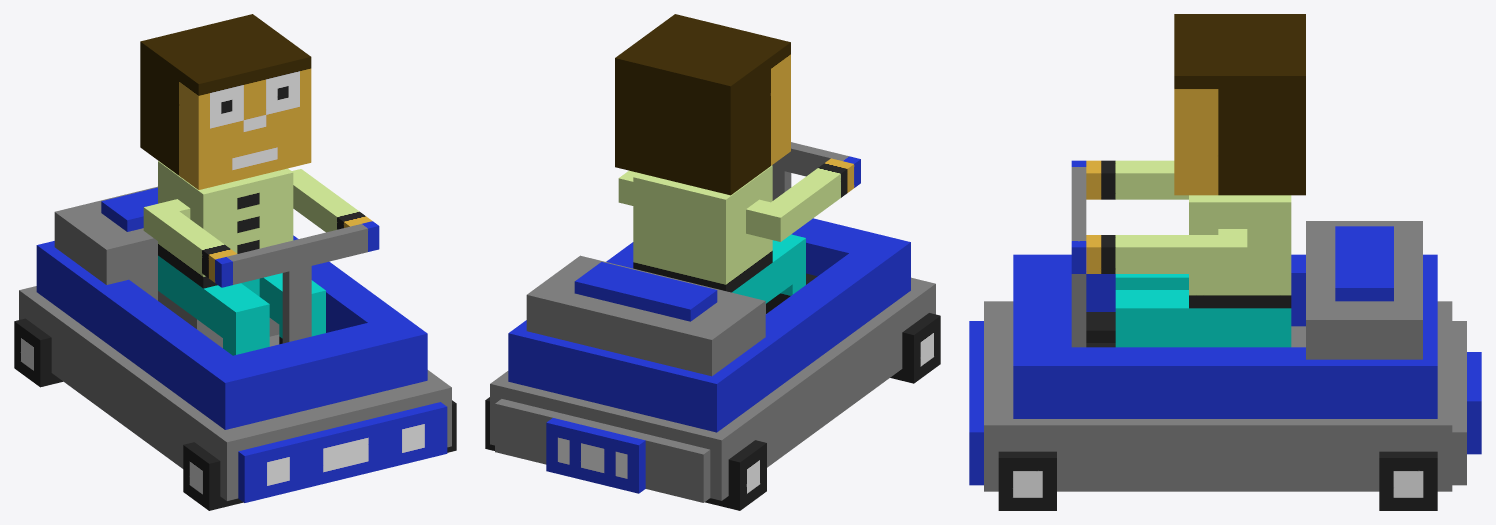
File: Character_0.fbx
3 views of the same model, side by side, from view 1: azimuth 30°, elevation 25°; view 2: azimuth 150°, elevation 25°; view 3: azimuth 270°, elevation 25° (orthographic). The views are drawn at different scales.
Visible parts, largest first — view 1: Character_0; view 2: Character_0; view 3: Character_0.
Part boxes in pixels (x1,y1,x2,y2): Character_0: (14,14,456,510); Character_0: (485,14,940,510); Character_0: (969,14,1481,510).
Bounding box in the file's own units: 22 × 30 × 35.
Materials: 1 (1 with a texture image).
